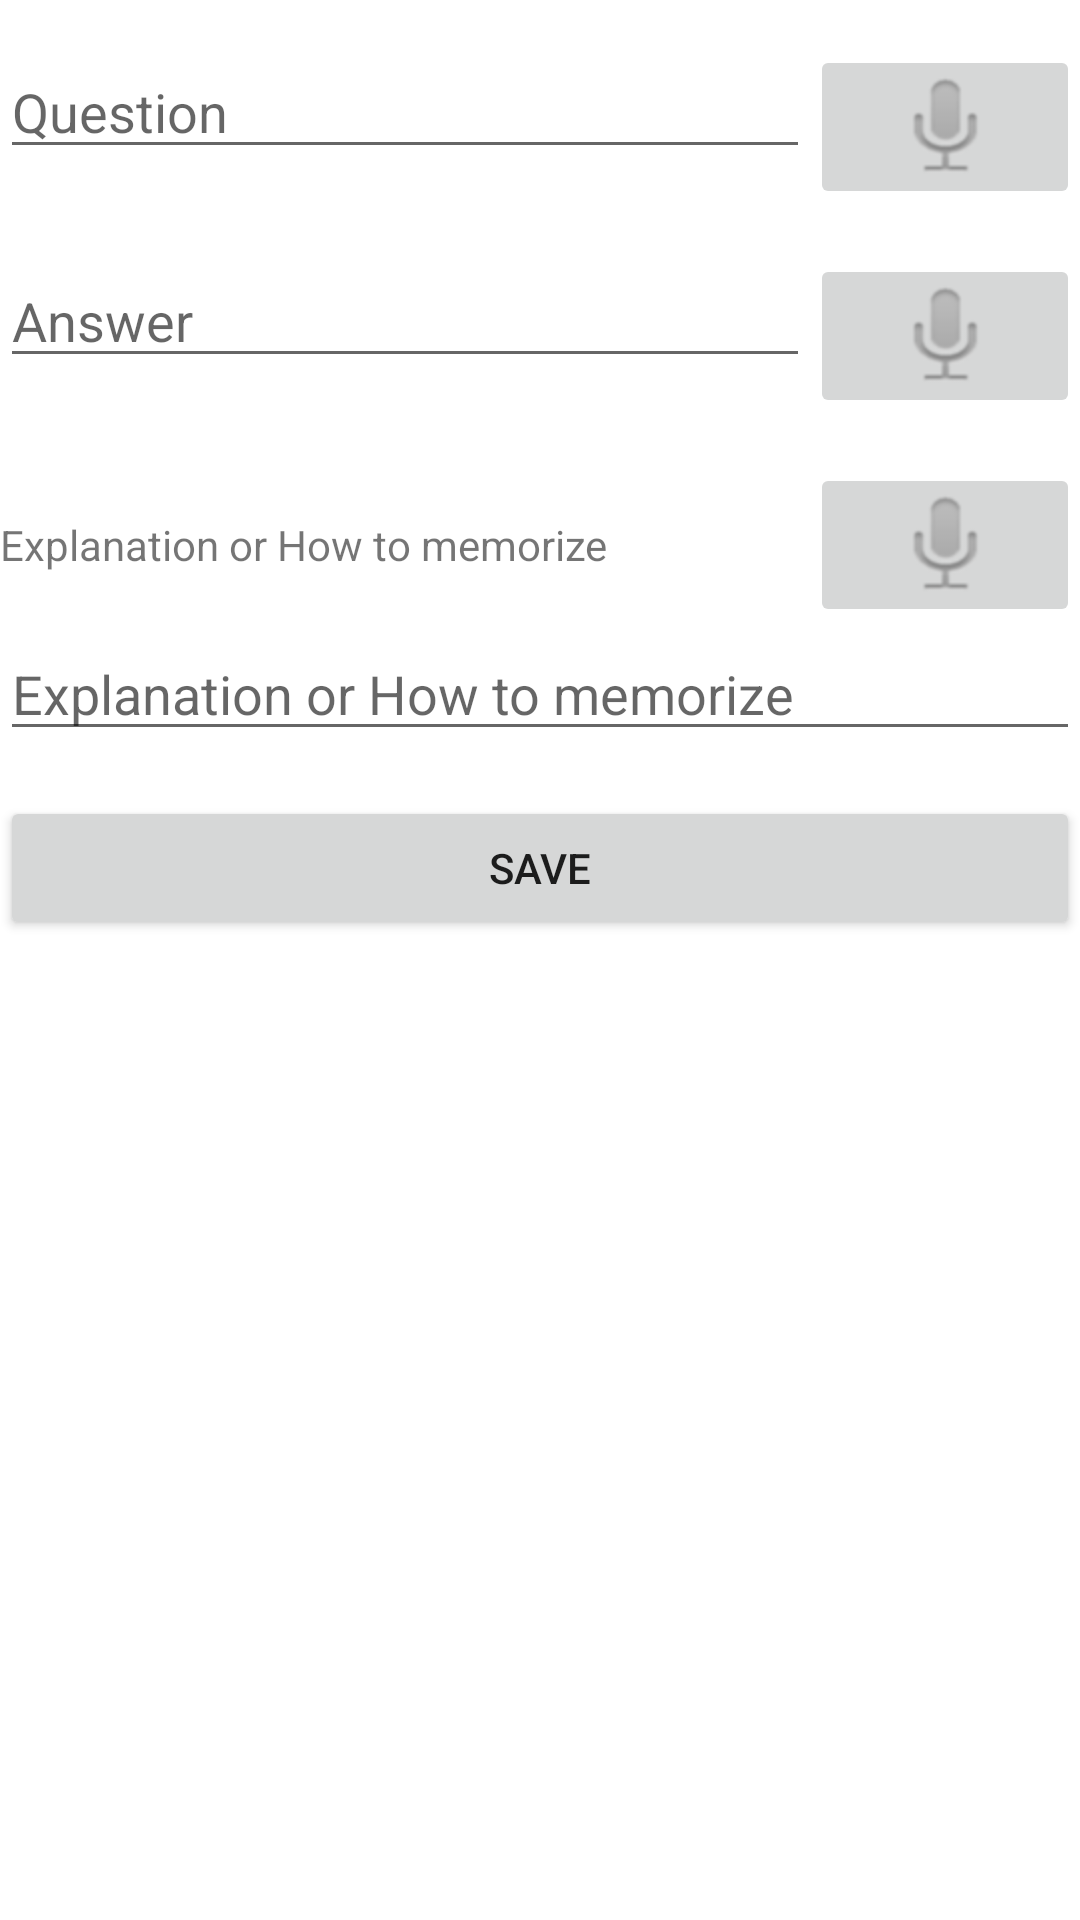

Icon bounding boxes for this 1080px x 1920px phone screenshot, format [x1=x1, y1=y1, x2=x2, y2=y2]:
voice recognition: [x1=822, y1=63, x2=1068, y2=191], [x1=822, y1=272, x2=1068, y2=400], [x1=822, y1=481, x2=1068, y2=609]
